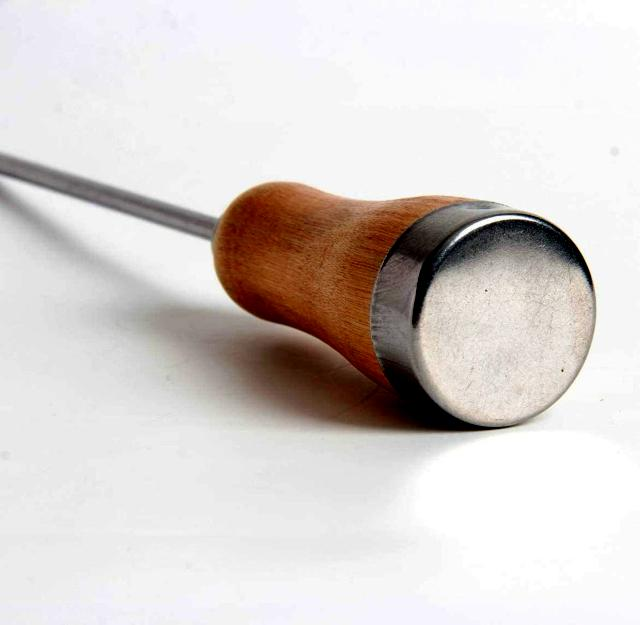ice pick: (1, 152, 597, 431)
